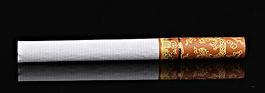smoke: (16, 36, 245, 61)
